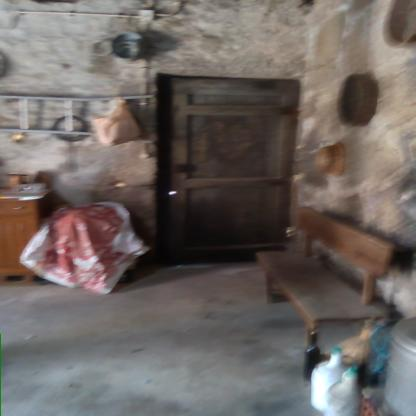closed: (146, 57, 312, 268)
